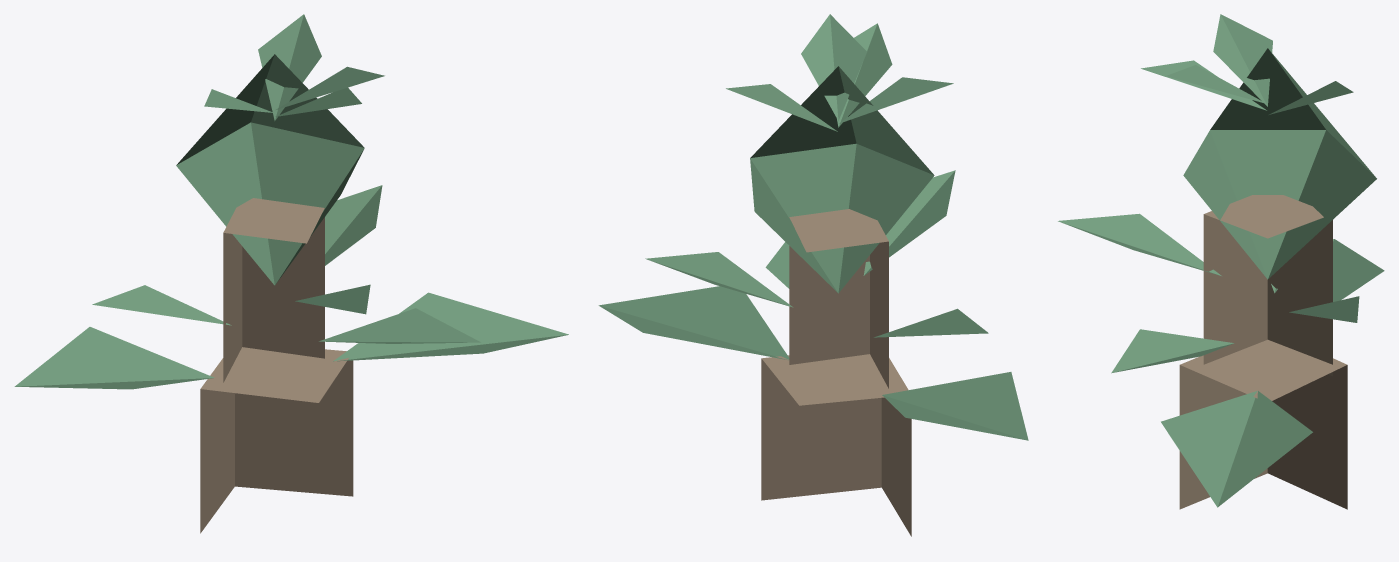
File: shui.kucao@seedling__summer.glb
3 renders of one model, left to right at view 1: azimuth 30°, elevation 25°; view 2: azimuth 150°, elevation 25°; view 3: azimuth 270°, elevation 25°, orthographic.
Visible parts, largest first — view 1: shui.kucao@seedling__summer; view 2: shui.kucao@seedling__summer; view 3: shui.kucao@seedling__summer.
Boxes of the visible parts, <box> form: shui.kucao@seedling__summer: <box>14,14,568,533</box>; shui.kucao@seedling__summer: <box>598,14,1028,536</box>; shui.kucao@seedling__summer: <box>1058,14,1384,509</box>.
Size of the model in its own units: 0.1065 by 0.0948 by 0.0609.
